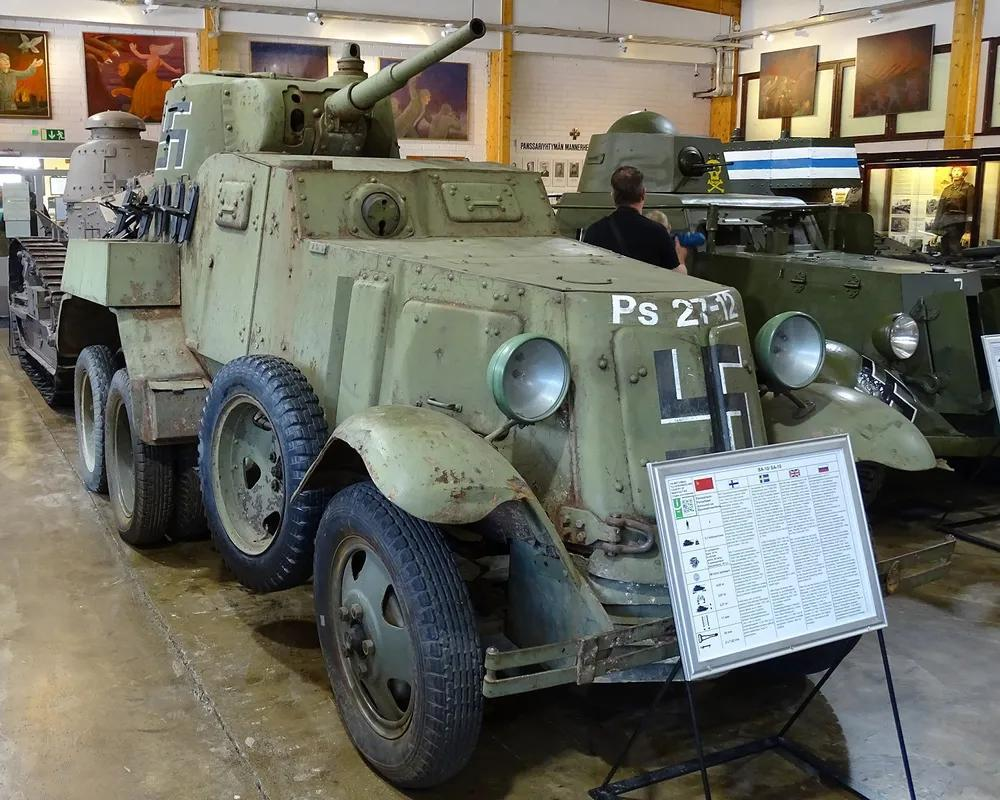MIL_IFV: (76, 12, 938, 787)
